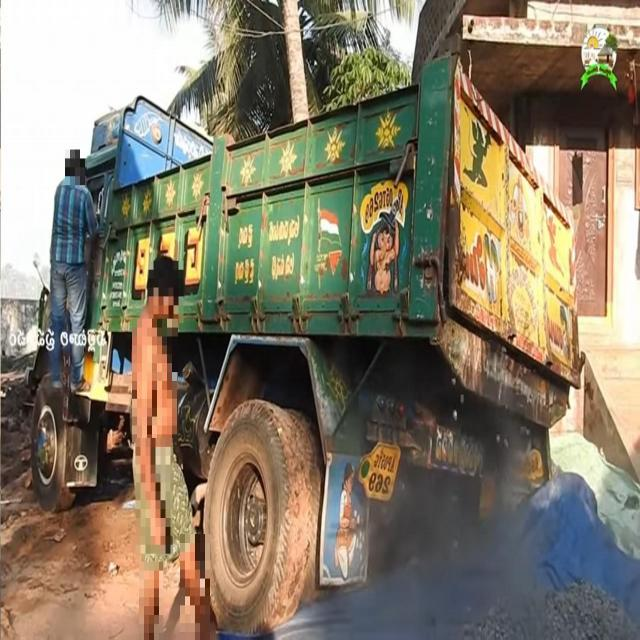truck: (11, 43, 590, 634)
